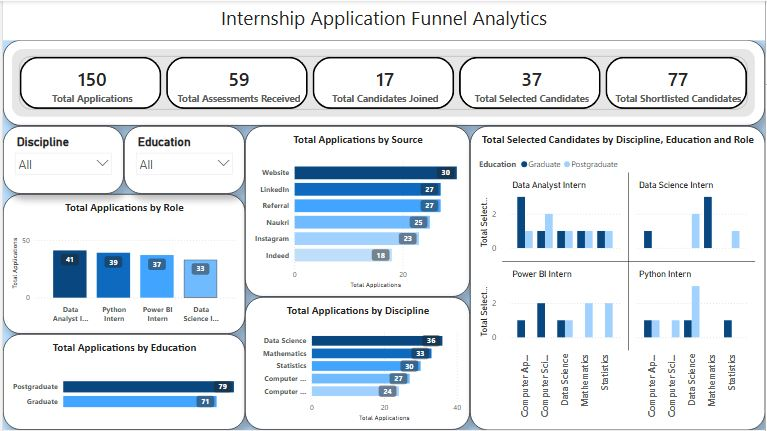

What the dashboard file says about the page in this screenshot:
{"tool":"powerbi","page":{"name":"Internship Applications Dashboard","canvas":[1280,720],"ordinal":0},"visuals":[{"type":"clusteredColumnChart","fields":{"Y":["Internship_Applications.Total Applications"],"Category":["Internship_Applications.Role"]},"box":[0,324.2,406.5,235.2],"z":0},{"type":"clusteredBarChart","fields":{"Category":["Internship_Applications.Education"],"Y":["Internship_Applications.Total Applications"]},"box":[0,559.4,406.5,161.3],"z":1000},{"type":"cardVisual","fields":{"Data":["Internship_Applications.Total Applications","Internship_Applications.Total Assessments Received","Internship_Applications.Total Candidates Joined","Internship_Applications.Total Selected Candidates","Internship_Applications.Total Shortlisted Candidates"]},"box":[0,65.5,1280,144.5],"z":2000},{"type":"textbox","box":[0,0,1280,65.5],"z":3000},{"type":"slicer","fields":{"Values":["Internship_Applications.Discipline"]},"box":[0,210,203.3,114.2],"z":4000},{"type":"slicer","fields":{"Values":["Internship_Applications.Education"]},"box":[203.3,210,203.3,114.2],"z":5000},{"type":"clusteredBarChart","fields":{"Category":["Internship_Applications.Source"],"Y":["Internship_Applications.Total Applications"]},"box":[406.5,210,378,287.2],"z":6000},{"type":"clusteredBarChart","fields":{"Category":["Internship_Applications.Discipline"],"Y":["Internship_Applications.Total Applications"]},"box":[406.5,497.2,378,223.4],"z":7000},{"type":"clusteredColumnChart","fields":{"Y":["Internship_Applications.Total Selected Candidates"],"Series":["Internship_Applications.Education"],"Category":["Internship_Applications.Discipline"],"Rows":["Internship_Applications.Role"]},"box":[784.5,210,495.5,510.7],"z":8000}]}

Visuals, with their boxes in screenshot pixels (x1, y1, x2, y2), scaled from the page's 1280x720 canvas onto the 767x431 screenshot:
clusteredColumnChart - Internship_Applications.Total Applications x Internship_Applications.Role: detection(0, 194, 244, 335)
clusteredBarChart - Internship_Applications.Education x Internship_Applications.Total Applications: detection(0, 335, 244, 430)
cardVisual - Internship_Applications.Total Applications x Internship_Applications.Total Assessments Received: detection(0, 39, 766, 126)
textbox: detection(0, 0, 766, 39)
slicer - Internship_Applications.Discipline: detection(0, 126, 122, 194)
slicer - Internship_Applications.Education: detection(122, 126, 244, 194)
clusteredBarChart - Internship_Applications.Source x Internship_Applications.Total Applications: detection(244, 126, 470, 298)
clusteredBarChart - Internship_Applications.Discipline x Internship_Applications.Total Applications: detection(244, 298, 470, 430)
clusteredColumnChart - Internship_Applications.Total Selected Candidates x Internship_Applications.Education: detection(470, 126, 766, 430)
